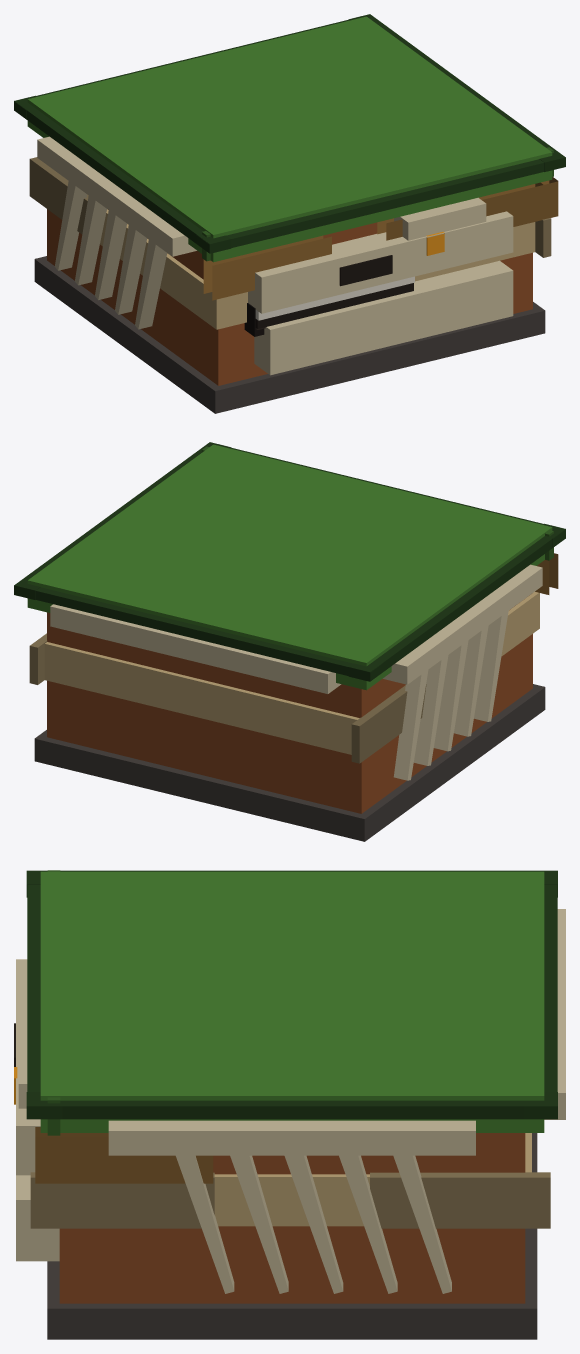
The model's file is TRexSkeletonSil.fbx.
3 views of the same model, one above another, from view 1: azimuth 30°, elevation 25°; view 2: azimuth 150°, elevation 25°; view 3: azimuth 270°, elevation 25° (orthographic). The views are drawn at different scales.
Visible parts, largest first — view 1: TR_S_All; view 2: TR_S_All; view 3: TR_S_All.
Part boxes in pixels (bbox=[...]): TR_S_All: bbox=[14, 14, 565, 413]; TR_S_All: bbox=[14, 442, 565, 841]; TR_S_All: bbox=[14, 870, 565, 1339].
Bounding box in the file's own units: 42.64 × 20 × 40.59.
